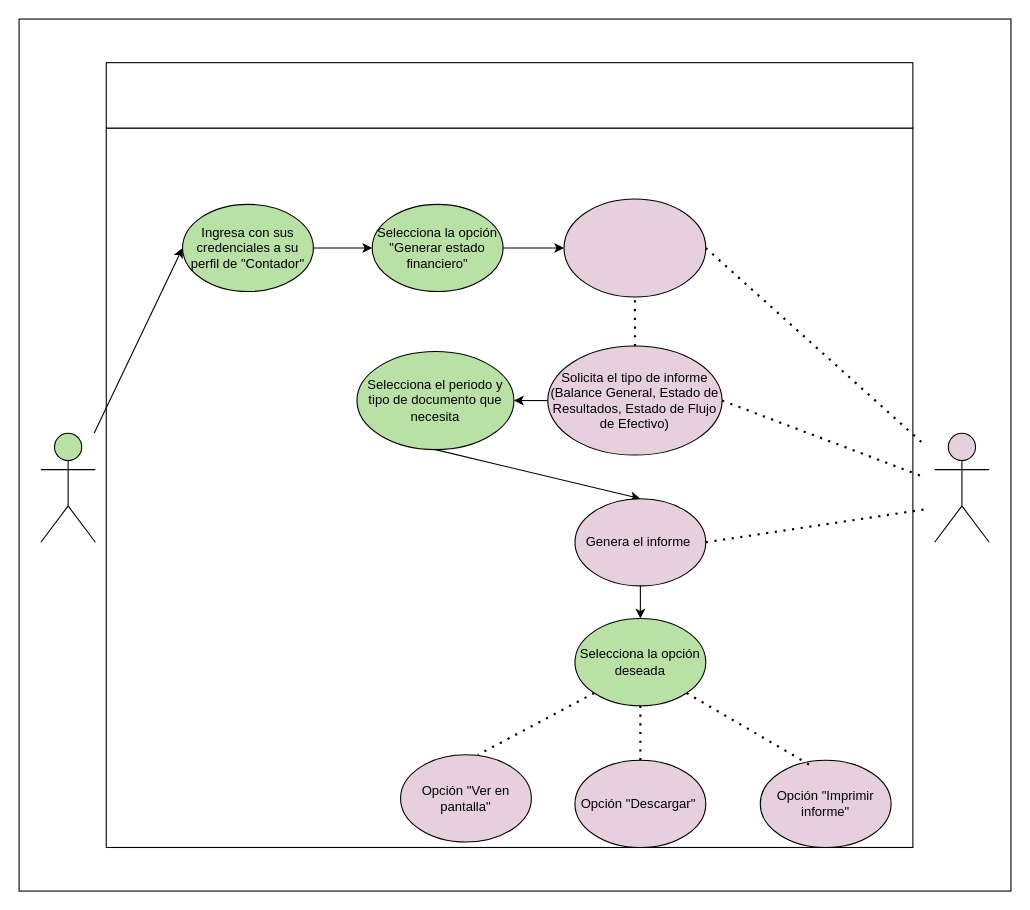
Some shapes in this 1030 by 910 pixel diagram are drawn without their labels. Here are the shapes that lost their labels. From the top down, the centre of each, then its label:
At point (509, 95): "Sistema contable".
At point (634, 247): "Solicita los parámetros del estado financiero (Periodos)".
At point (67, 487): "Contador".
At point (961, 487): "Sistema".
